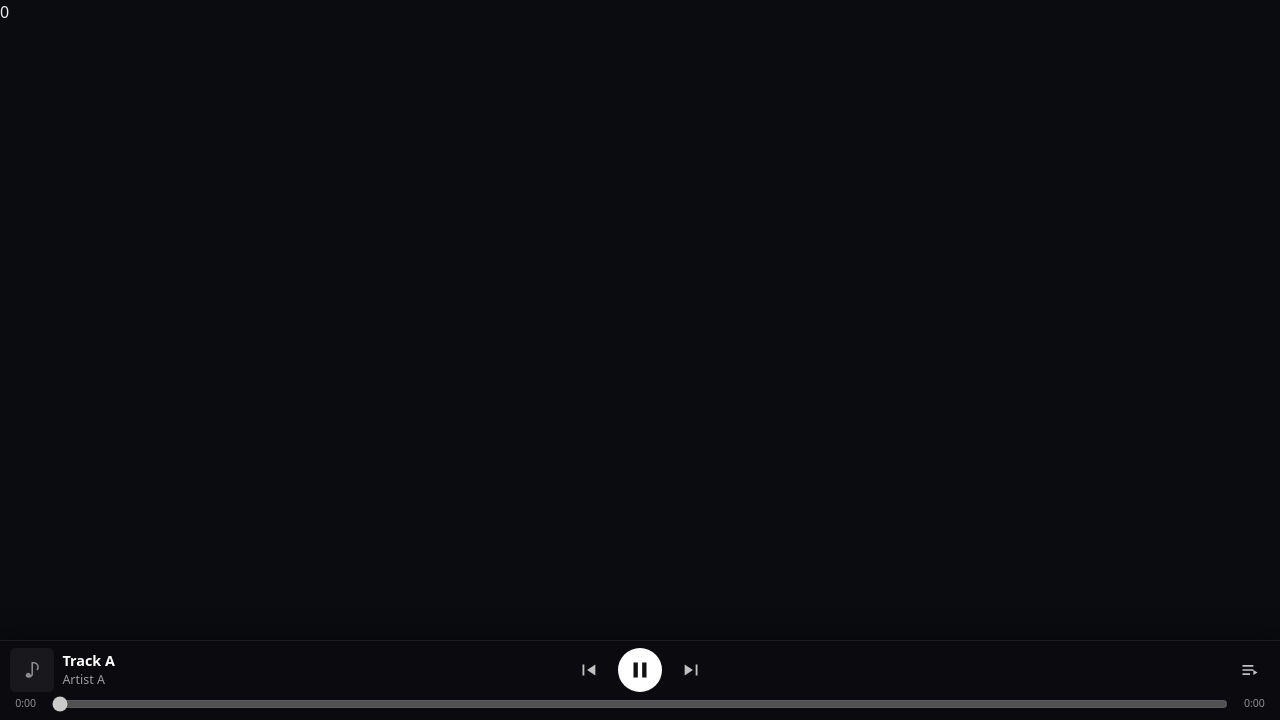
Test: NowPlayingBar — compact mobile layout › collapses the full-screen player with the down-chevron
Click the button with aria-label "Abrir reproductor: Track A" at point(32, 670), box [8,648,564,692]
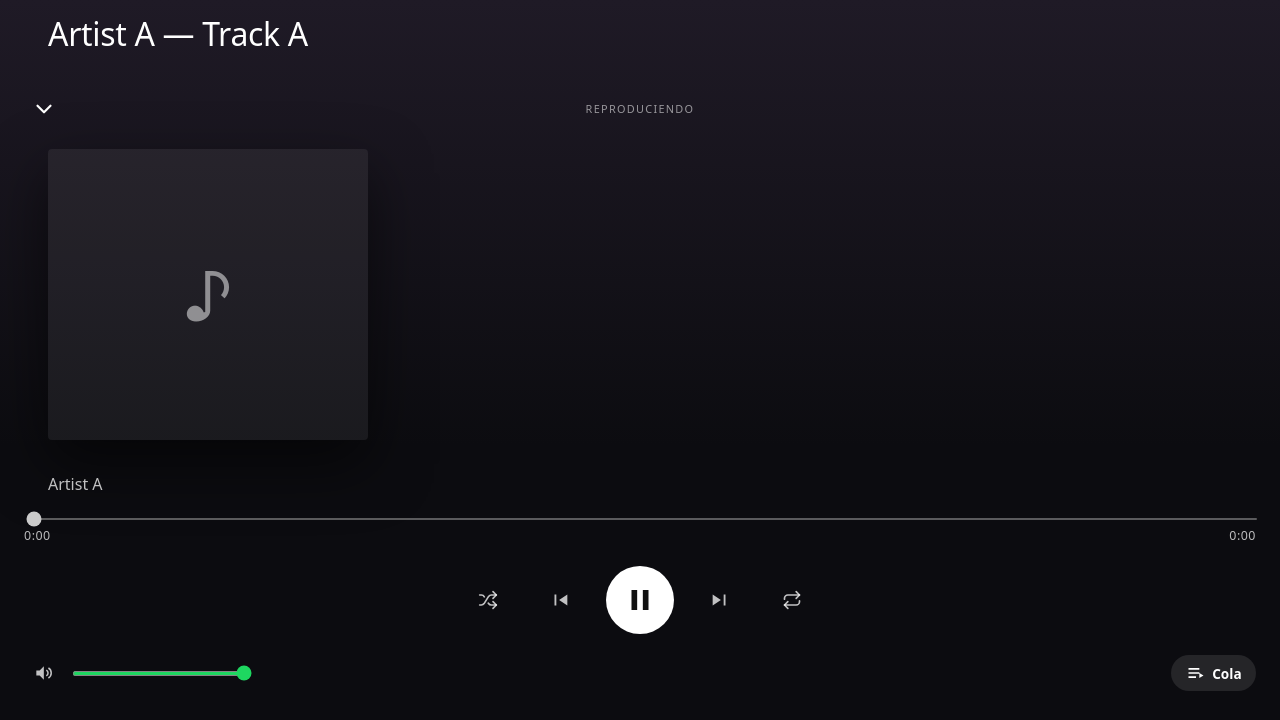
Click the button named "Contraer reproductor" at point(44, 109), box [24,89,64,129]
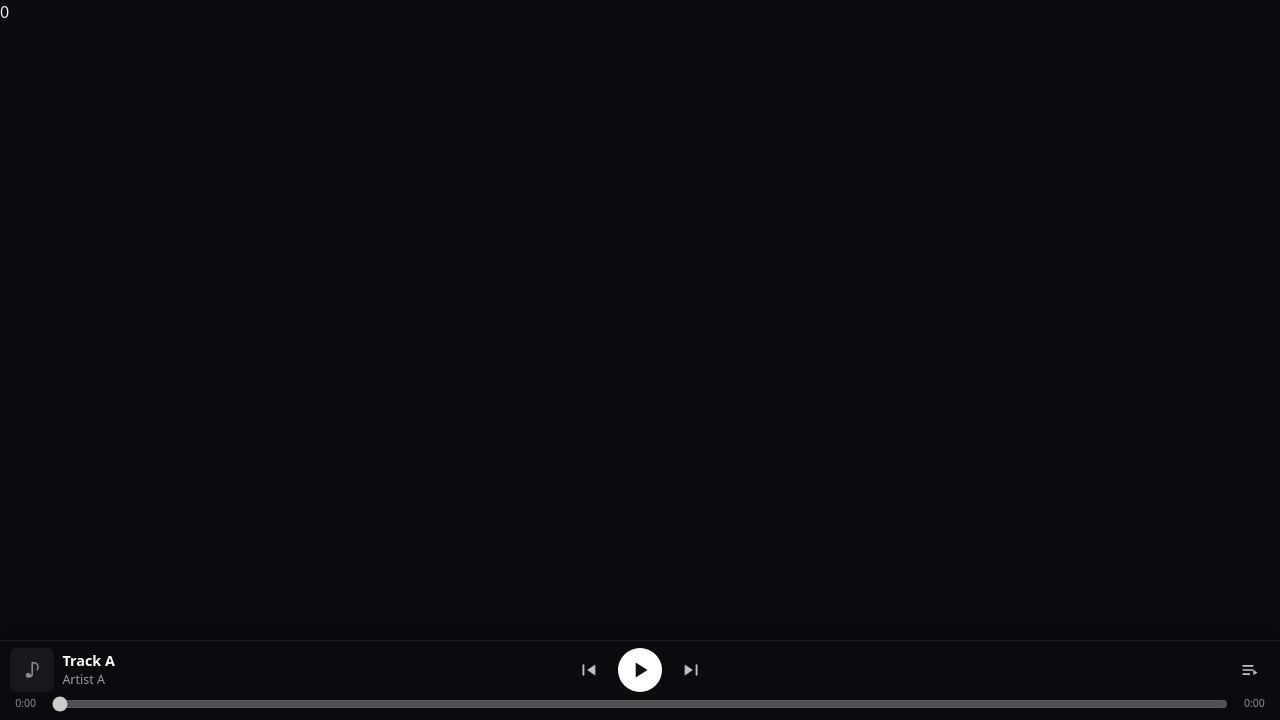
Expected: the button with aria-label "Abrir reproductor: Track A" is shown, [8,648,564,692]
Result: the text "Reproduciendo" is gone
